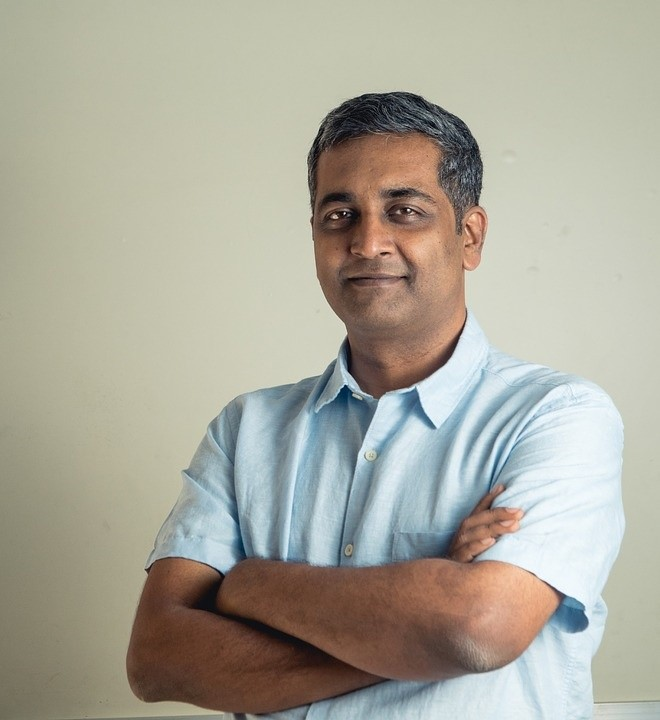face_no_mask: (305, 92, 483, 338)
